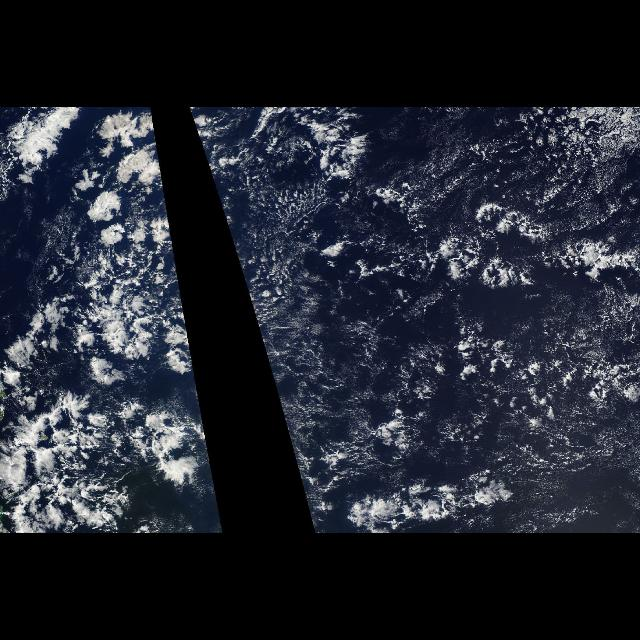Gravel: (402, 321, 624, 427)
Sugar: (408, 112, 640, 230)
